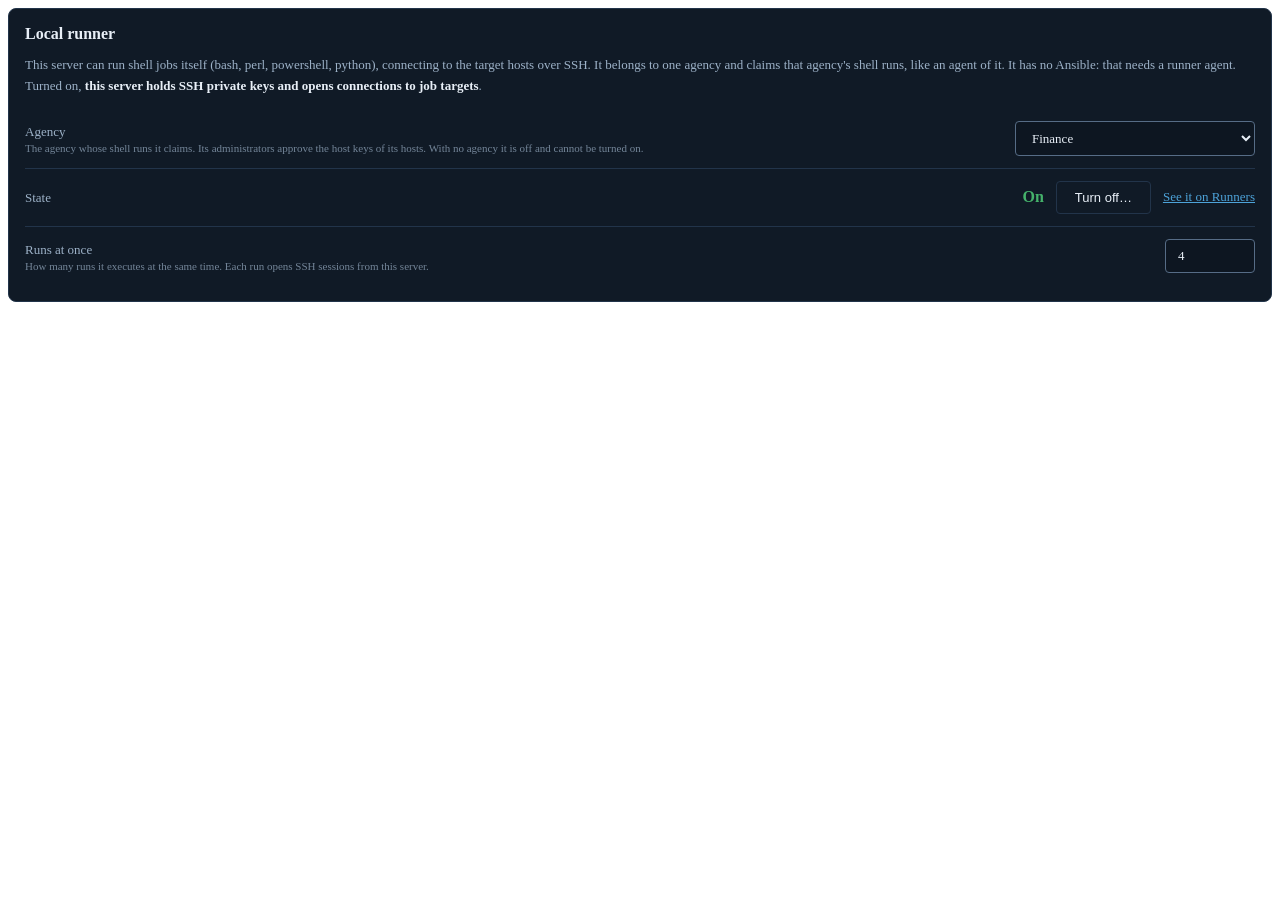
it: Local runner card › gives it to another agency only after a confirmation that says what changes
Select "Tax" in the dropdown named "Agency": {"x": 1135, "y": 138} [1015, 121, 1255, 156]
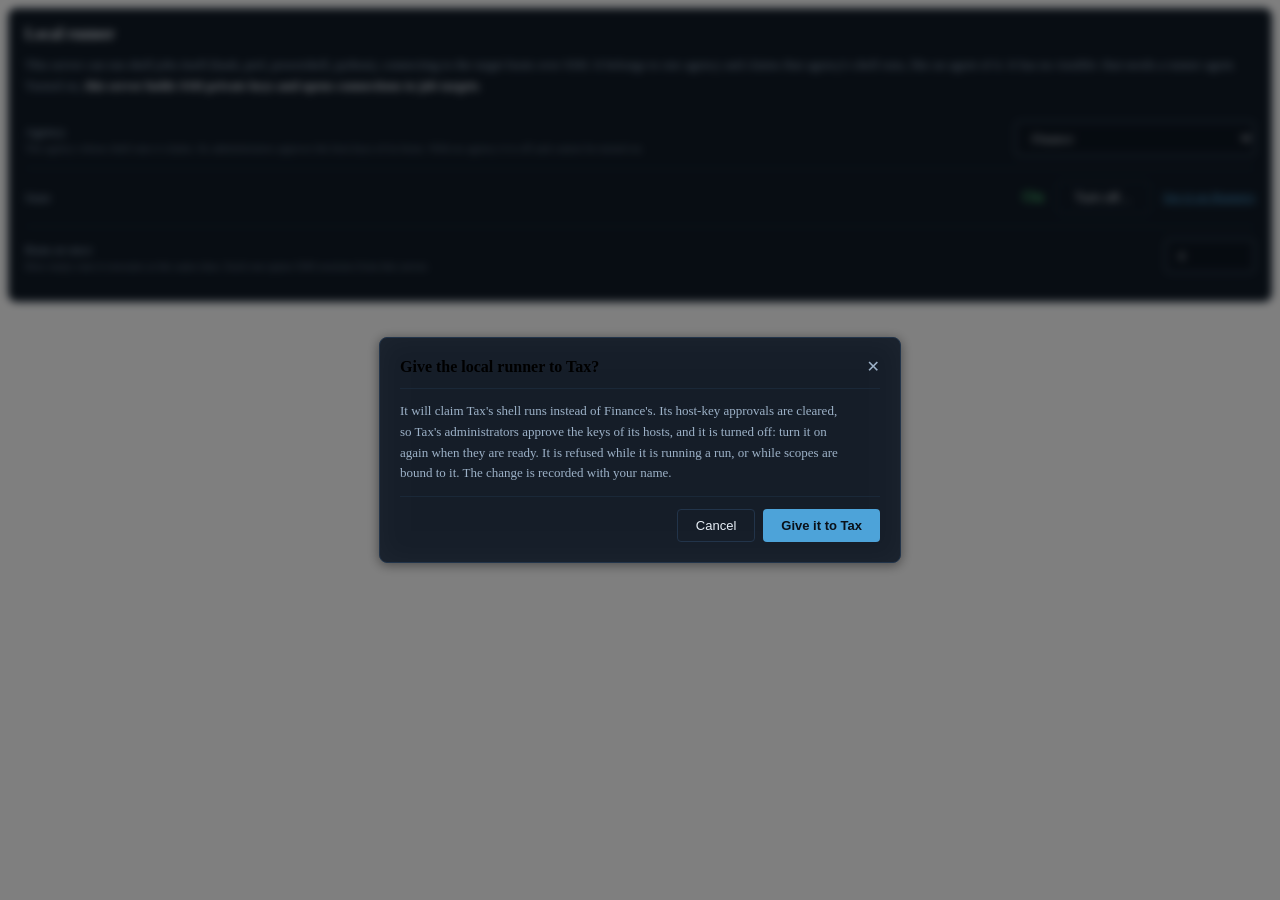
Expected: the text "It will claim Tax's shell runs instead of Finance's." is shown, [400, 401, 851, 484]
Expected: the text "it is turned off" is shown, [400, 424, 838, 480]
Click the button "Give it to Tax": {"x": 822, "y": 526} [763, 509, 880, 542]
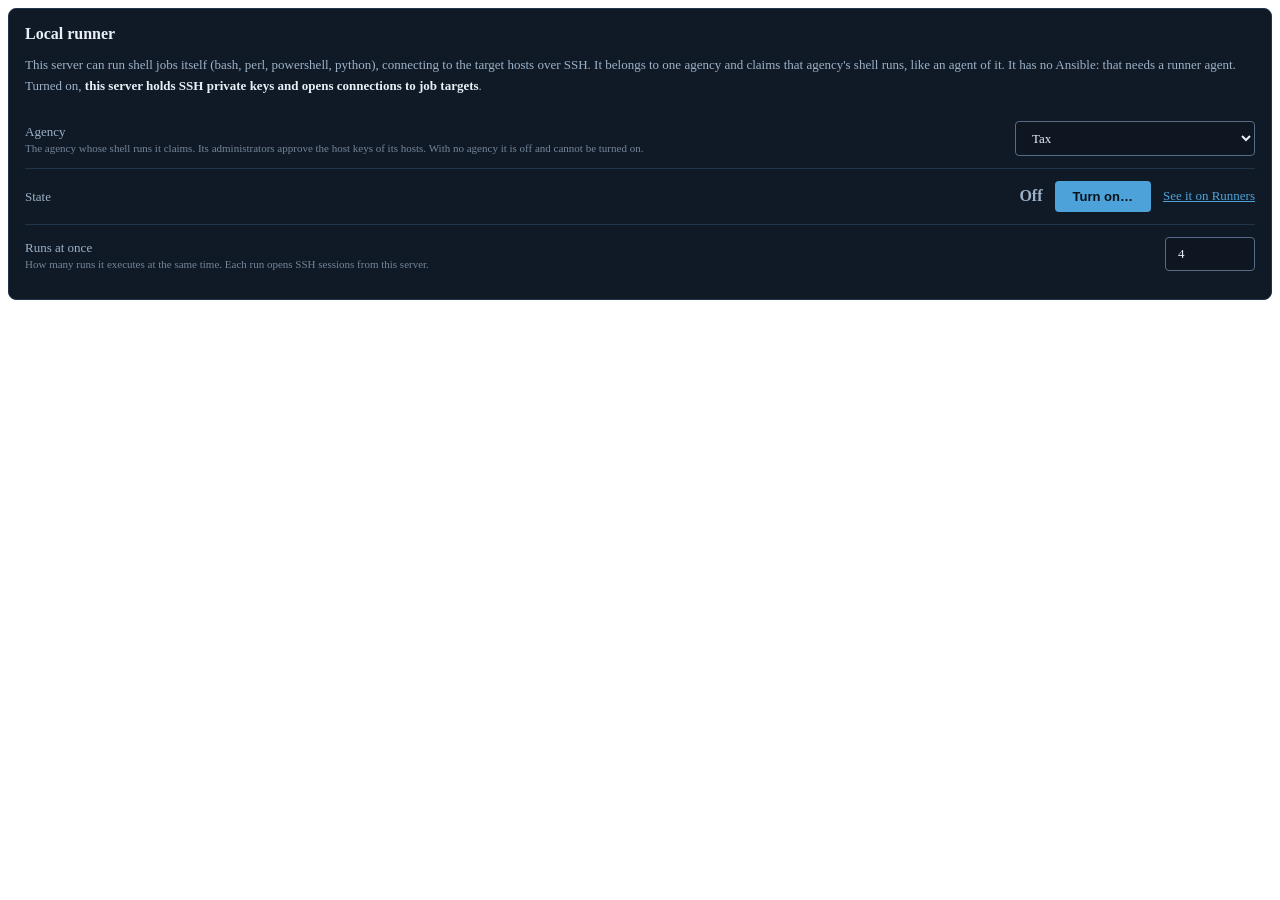
Expected: the text "Off" is shown, [1019, 187, 1042, 205]
